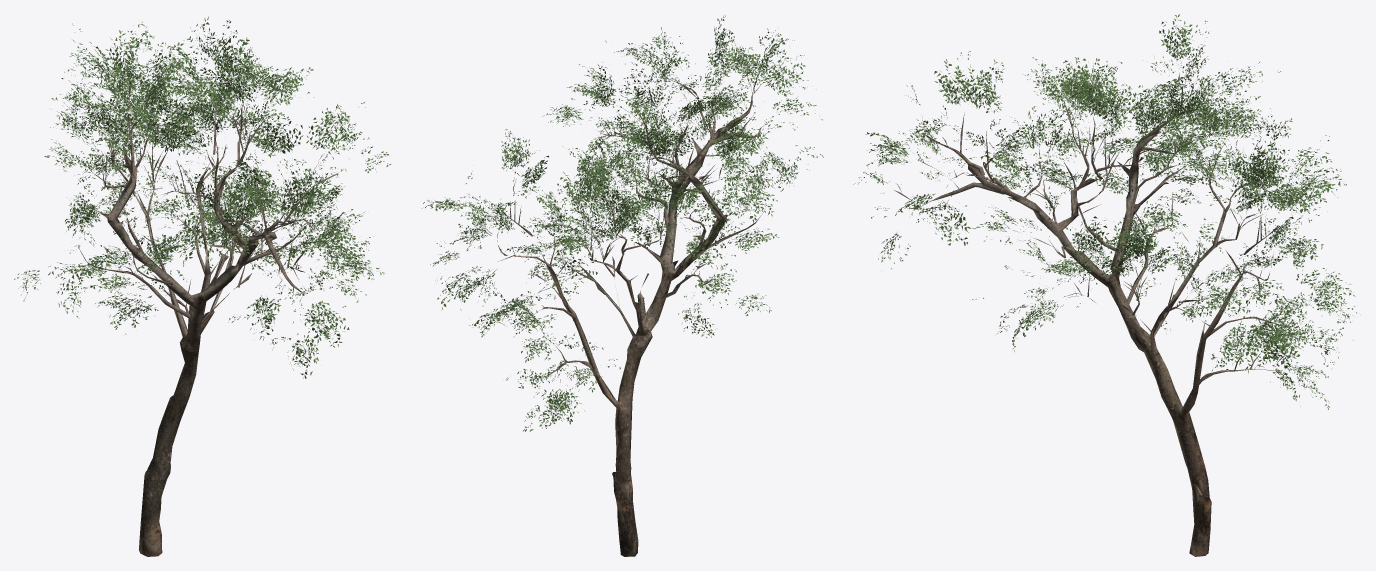
File: tree_small_02_hi.glb
3 views of the same model, side by side, from view 1: azimuth 30°, elevation 25°; view 2: azimuth 150°, elevation 25°; view 3: azimuth 270°, elevation 25° (orthographic). The views are drawn at different scales.
Parts seen in each view (by area): view 1: tree_small_02_LOD0; view 2: tree_small_02_LOD0; view 3: tree_small_02_LOD0.
Boxes of the visible parts, <box> form: tree_small_02_LOD0: <box>14,16,391,556</box>; tree_small_02_LOD0: <box>422,16,823,556</box>; tree_small_02_LOD0: <box>853,14,1356,556</box>.
Size of the model in its own units: 2.88 by 4.55 by 4.2.
Materials: 3 (3 with a texture image).
